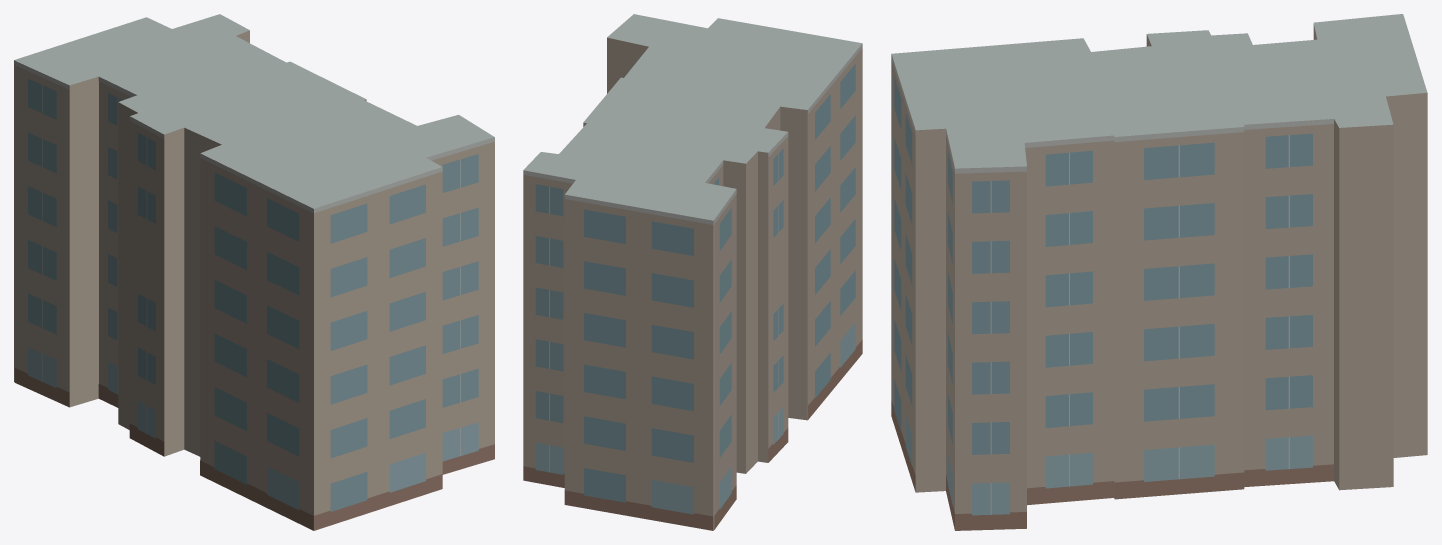
File: survey-upis-32733630.glb
3 renders of one model, left to right at view 1: azimuth 30°, elevation 25°; view 2: azimuth 150°, elevation 25°; view 3: azimuth 270°, elevation 25°, orthographic. The views are drawn at different scales.
Visible parts, largest first — view 1: survey-upis-32733630.tmp; view 2: survey-upis-32733630.tmp; view 3: survey-upis-32733630.tmp.
Part boxes in pixels (x1,y1,x2,y2): survey-upis-32733630.tmp: (14,14,494,530); survey-upis-32733630.tmp: (523,14,862,530); survey-upis-32733630.tmp: (891,14,1427,530).
Size of the model in its own units: 15.93 by 17.4 by 23.35.
